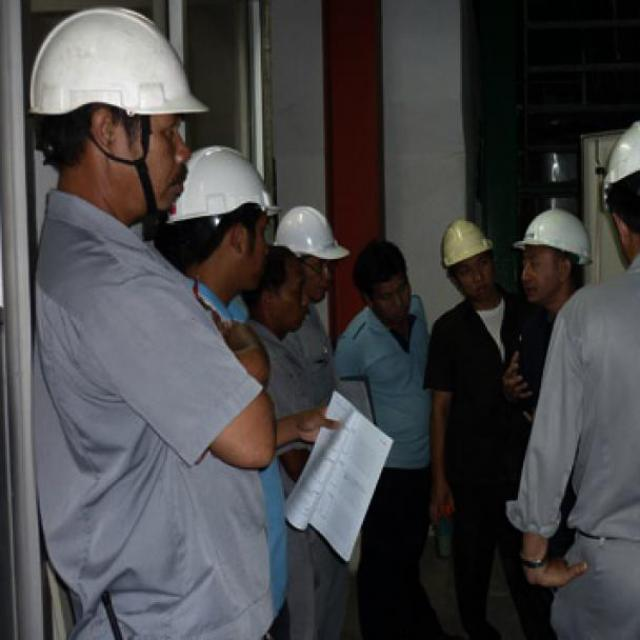helmet: (20, 0, 196, 218), (158, 112, 271, 272), (509, 205, 590, 302), (430, 216, 502, 304), (271, 206, 356, 279), (609, 106, 638, 254)
